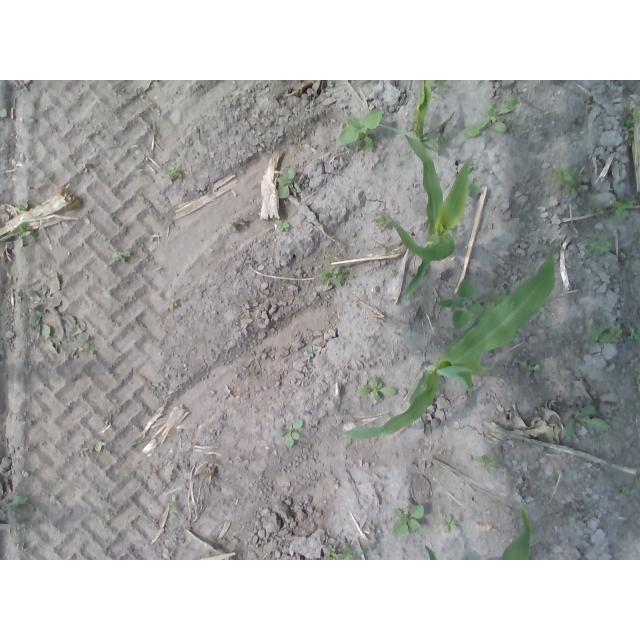Maize: (330, 239, 555, 438), (384, 134, 473, 299), (372, 505, 533, 560), (374, 80, 455, 150)
Weeds: (436, 280, 485, 331), (466, 98, 518, 138), (338, 109, 382, 152), (24, 275, 63, 316), (564, 405, 611, 438), (587, 319, 640, 347), (272, 418, 304, 449), (67, 315, 93, 353), (392, 506, 423, 537), (356, 379, 396, 402), (553, 166, 584, 194), (323, 540, 366, 560), (316, 266, 352, 286), (619, 101, 637, 139), (12, 221, 36, 248), (276, 165, 293, 200), (585, 234, 613, 255), (476, 454, 503, 475), (609, 199, 635, 219), (43, 323, 58, 354), (486, 288, 507, 309), (520, 359, 540, 377), (441, 514, 459, 534), (466, 176, 482, 198), (27, 309, 41, 333), (164, 164, 184, 180), (376, 213, 395, 228), (142, 80, 169, 90), (5, 494, 27, 506), (433, 80, 448, 96), (277, 219, 292, 233), (112, 251, 131, 262), (436, 133, 449, 149), (12, 200, 29, 210), (625, 397, 640, 407), (91, 444, 103, 456), (490, 499, 502, 510), (166, 299, 178, 310), (306, 343, 315, 357), (629, 366, 640, 377), (595, 207, 605, 217), (167, 503, 177, 513), (619, 486, 629, 495), (527, 552, 537, 561), (238, 218, 249, 226), (292, 182, 300, 190), (332, 478, 340, 485), (635, 476, 640, 487)
